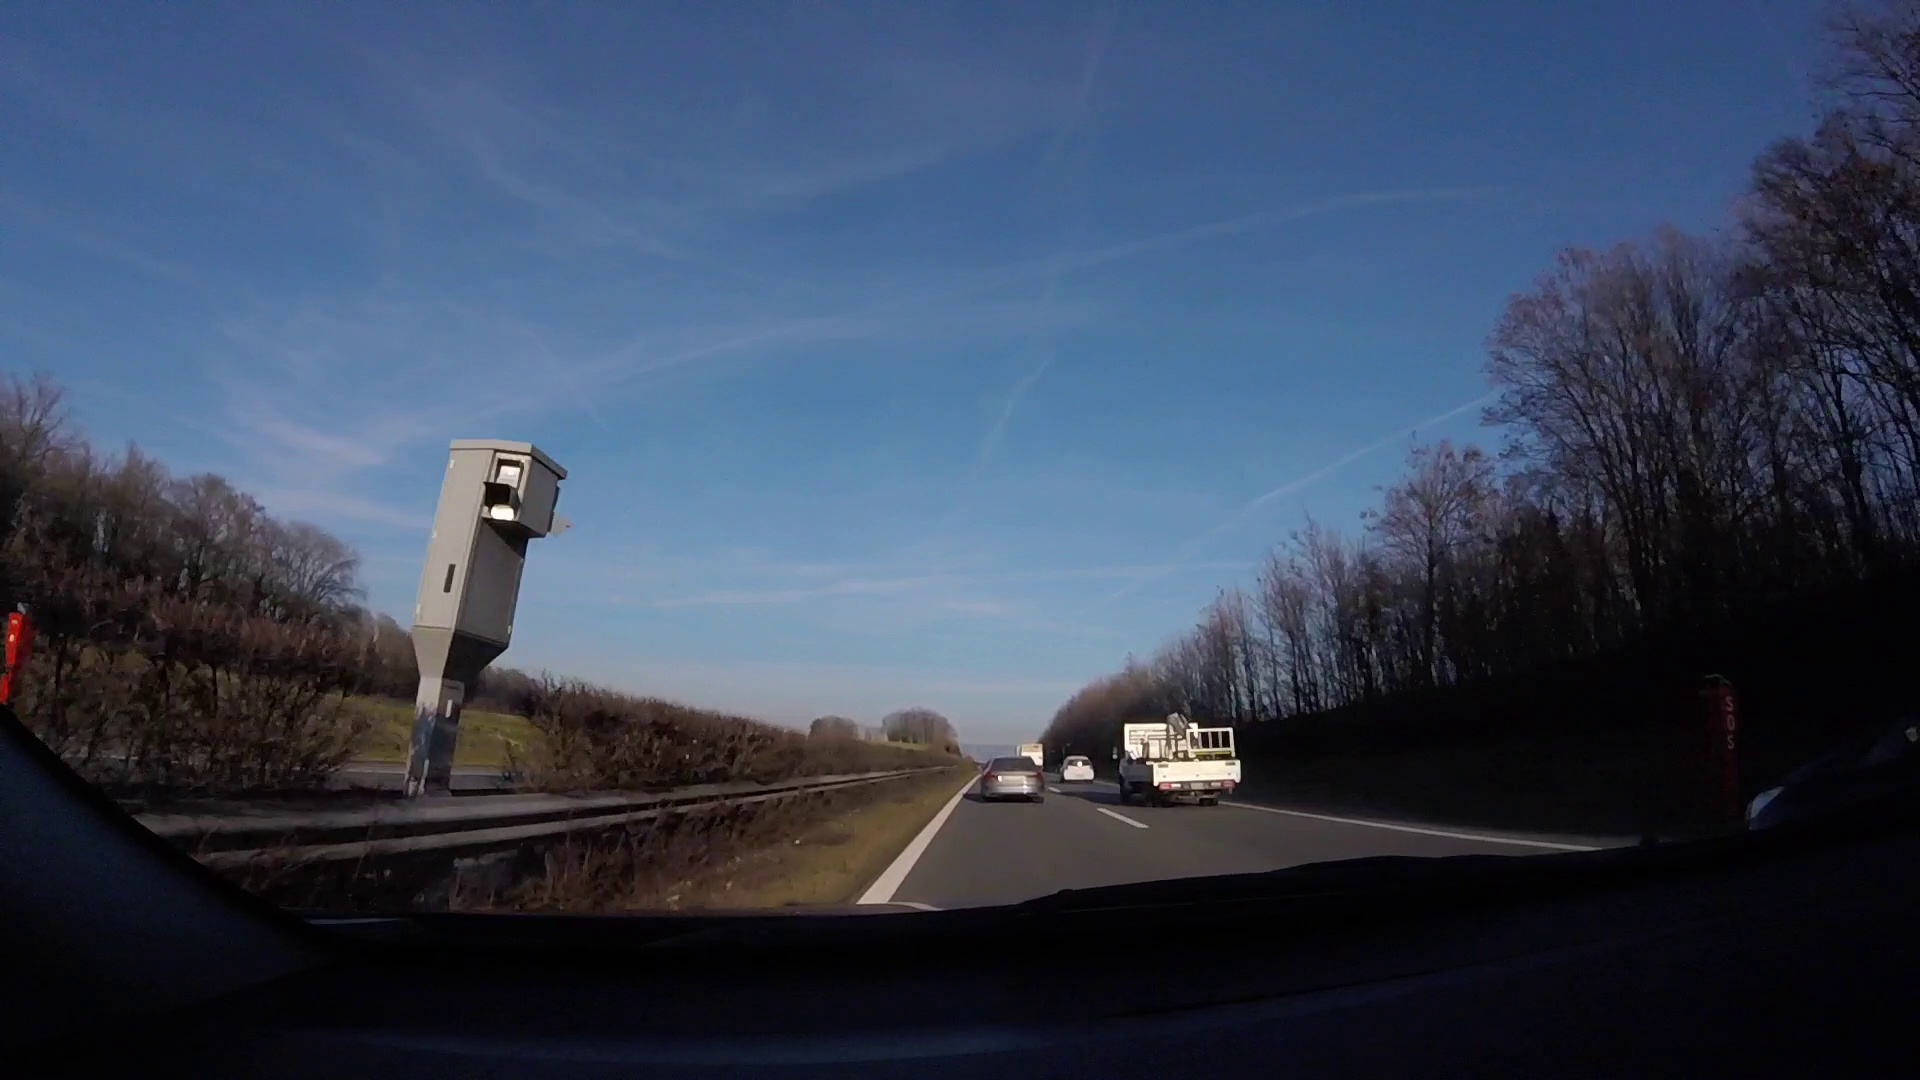radar: (405, 436, 570, 738)
